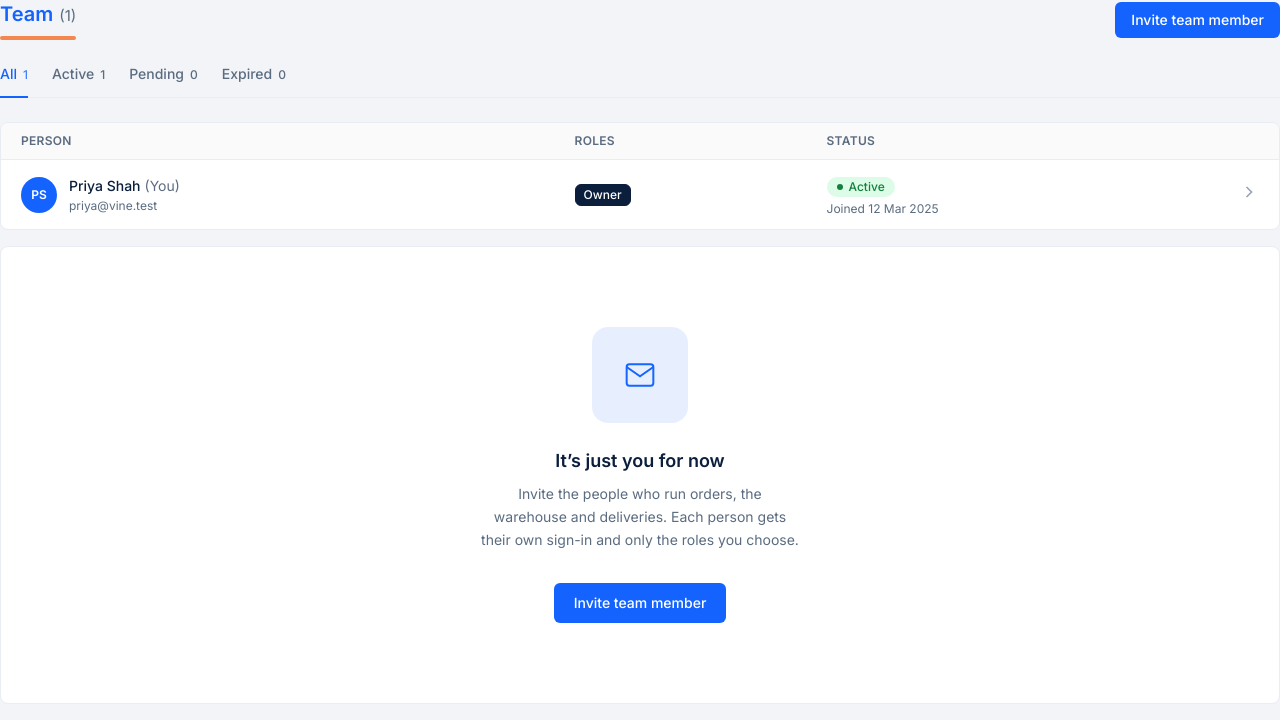
it: Team page › invites the first person when it is just you, via the empty state
This screenshot has width=1280, height=720.
Expected: the heading "It’s just you for now" is shown, [555,447,725,475]
Step 1. Click the button "Invite team member" below "It’s just you for now" → coordinates (640, 603), box [554,583,726,623]
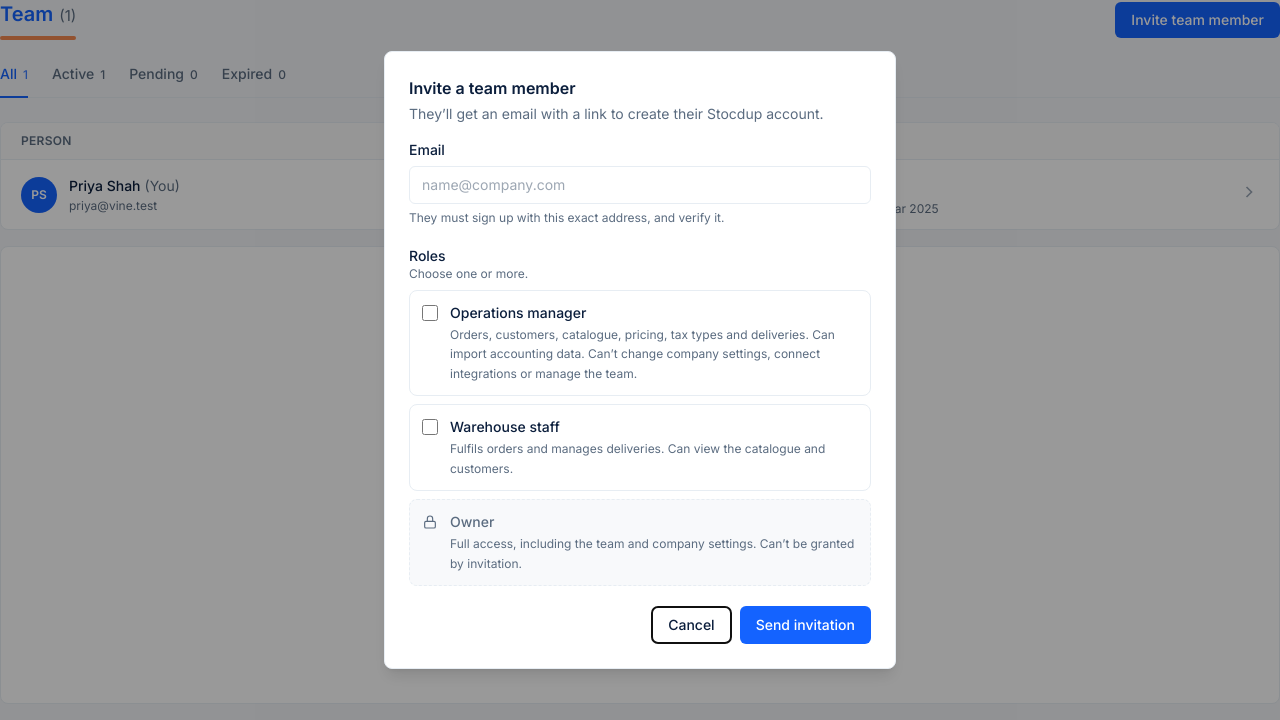
Expected: the dialog is shown, [384,51,896,669]
